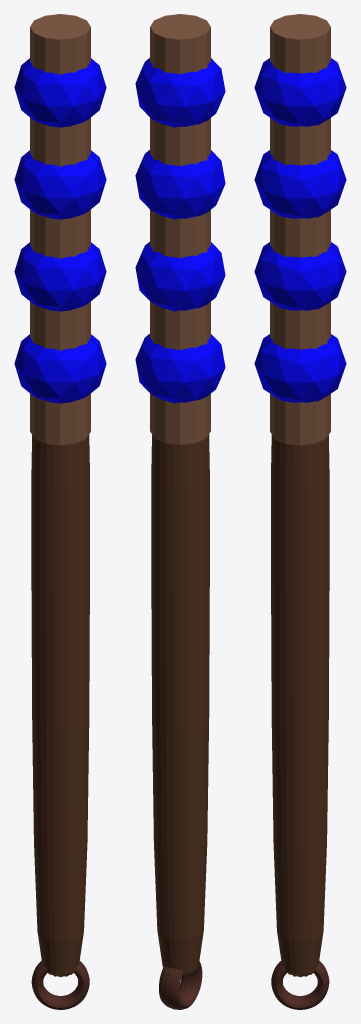
The model's file is Wand 31.glb.
The picture shows the model from 3 angles, left to right: view 1: azimuth 90°, elevation 25°; view 2: azimuth 150°, elevation 25°; view 3: azimuth 270°, elevation 25°; orthographic projection.
Parts seen in each view (by area): view 1: GeneratedWand; view 2: GeneratedWand; view 3: GeneratedWand.
Part boxes in pixels (bbox=[...]): GeneratedWand: bbox=[14, 14, 106, 1009]; GeneratedWand: bbox=[135, 14, 225, 1009]; GeneratedWand: bbox=[254, 14, 346, 1009].
Size of the model in its own units: 0.0407 by 0.5033 by 0.0428.
